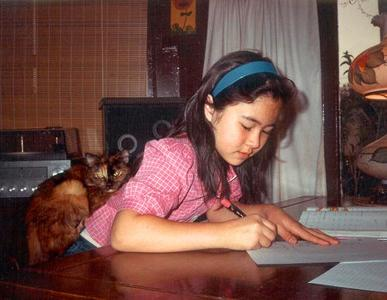person: (58, 50, 342, 256)
